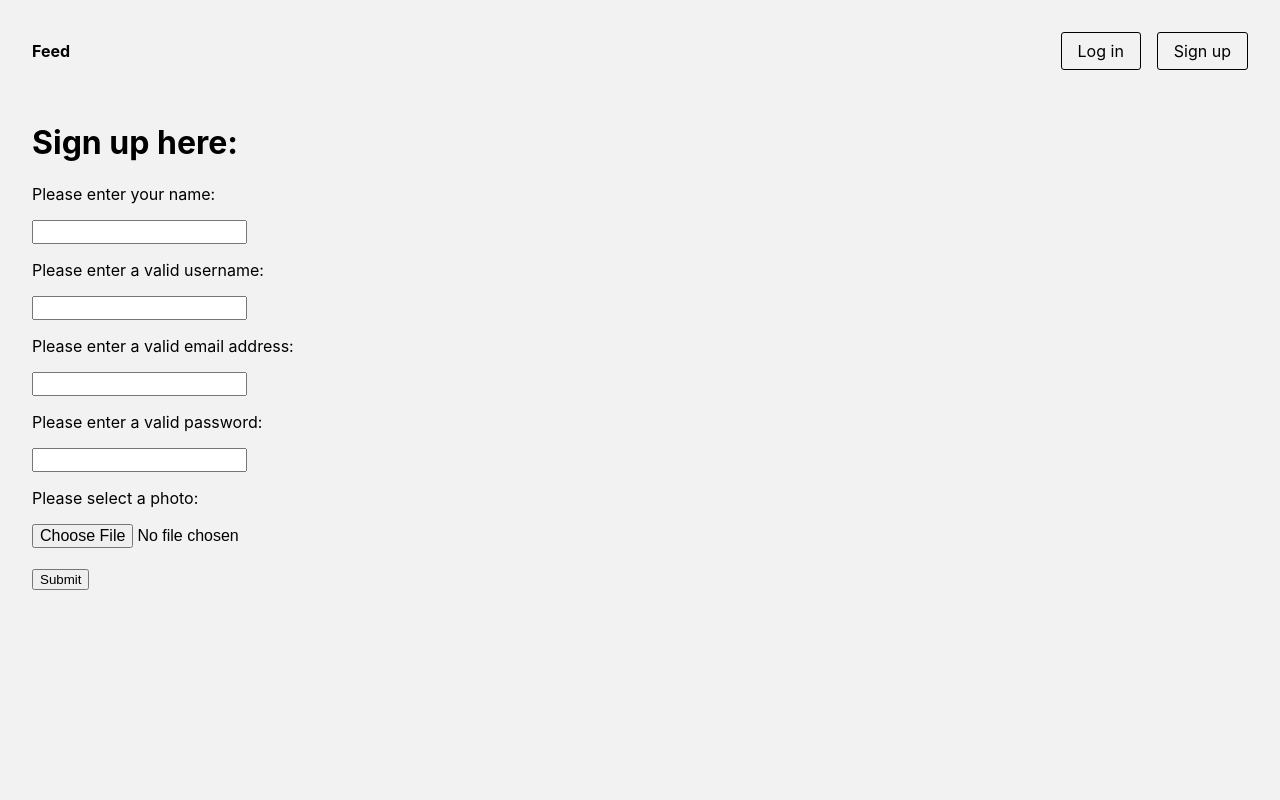
Test: Signup › should display an alert when submitting only the name.
Type "Roy" into the field with test id "name-input". click: (140, 232)
box: [32, 220, 247, 244]
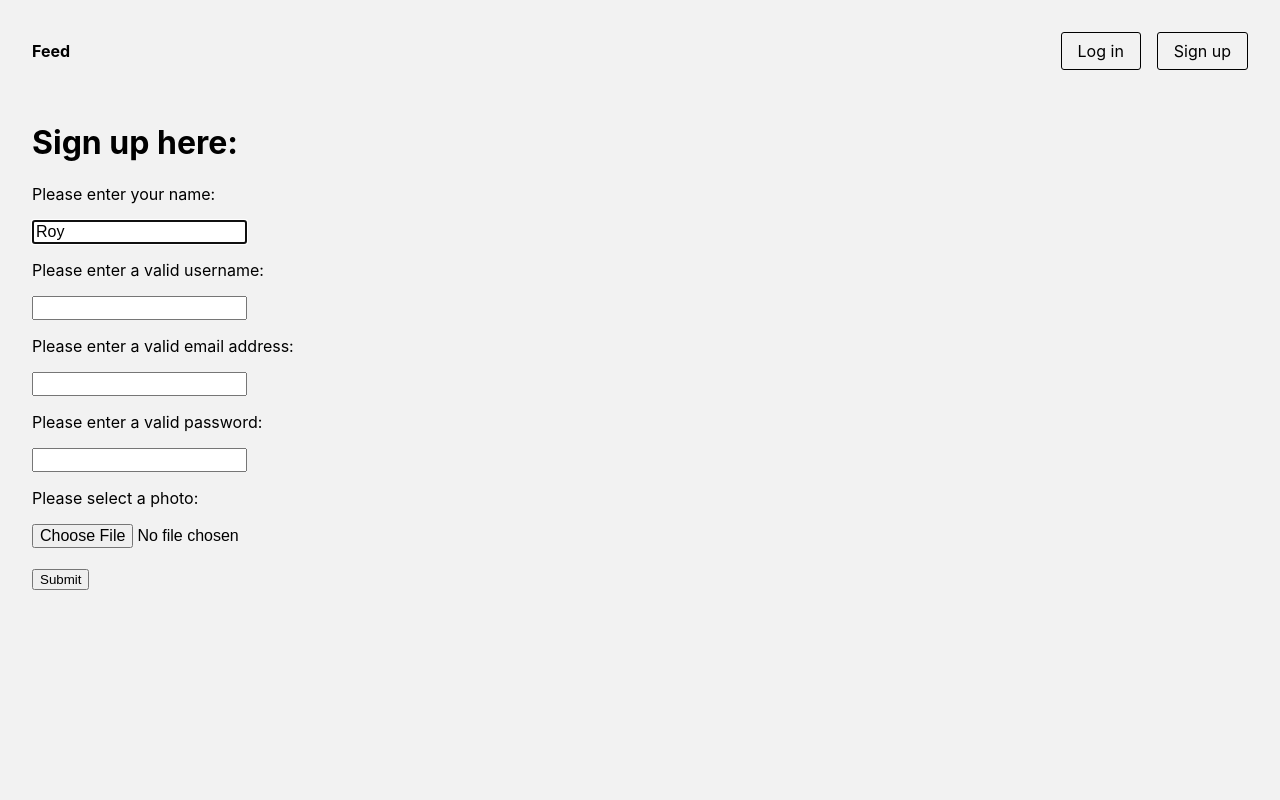
Click the button "Submit". click: (61, 580)
box: [32, 569, 90, 590]
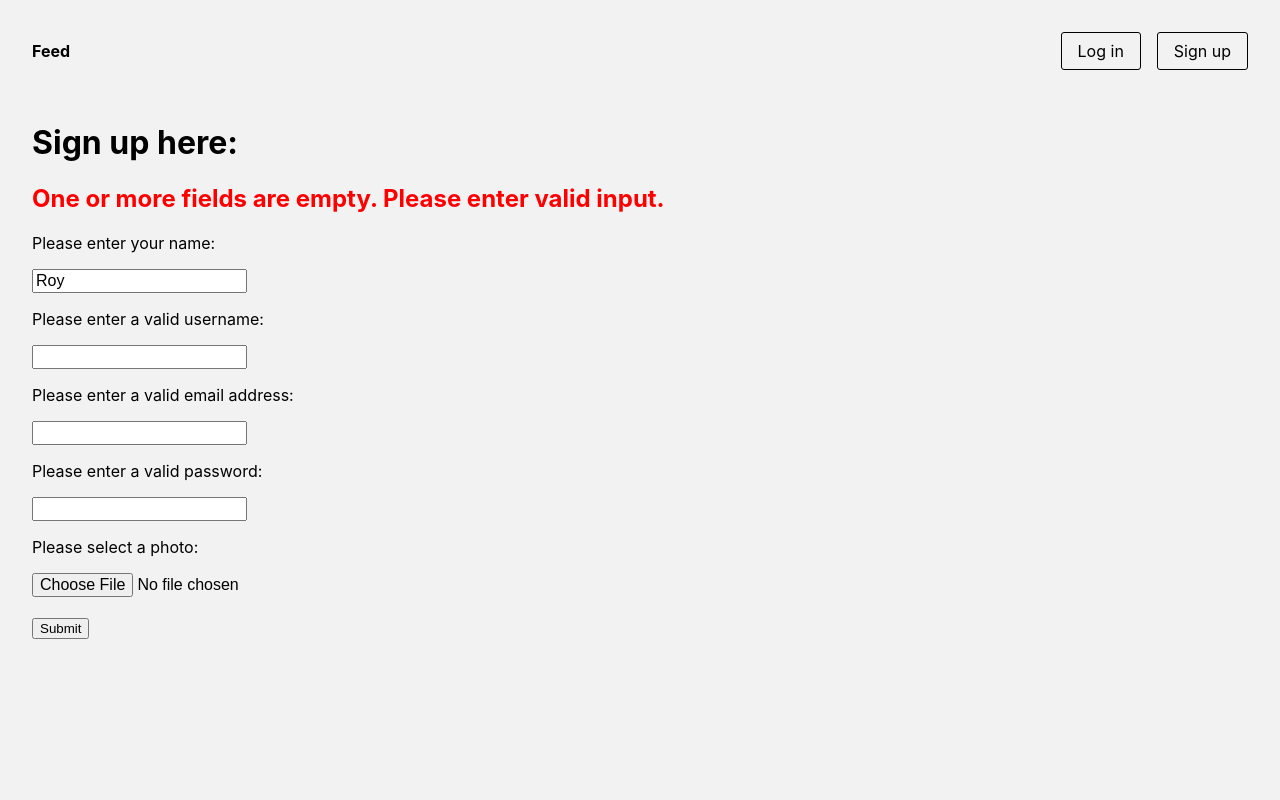
Now the heading with test id "error-id" reads "One or more fields are empty. Please enter valid input.", box [32, 184, 665, 213]
